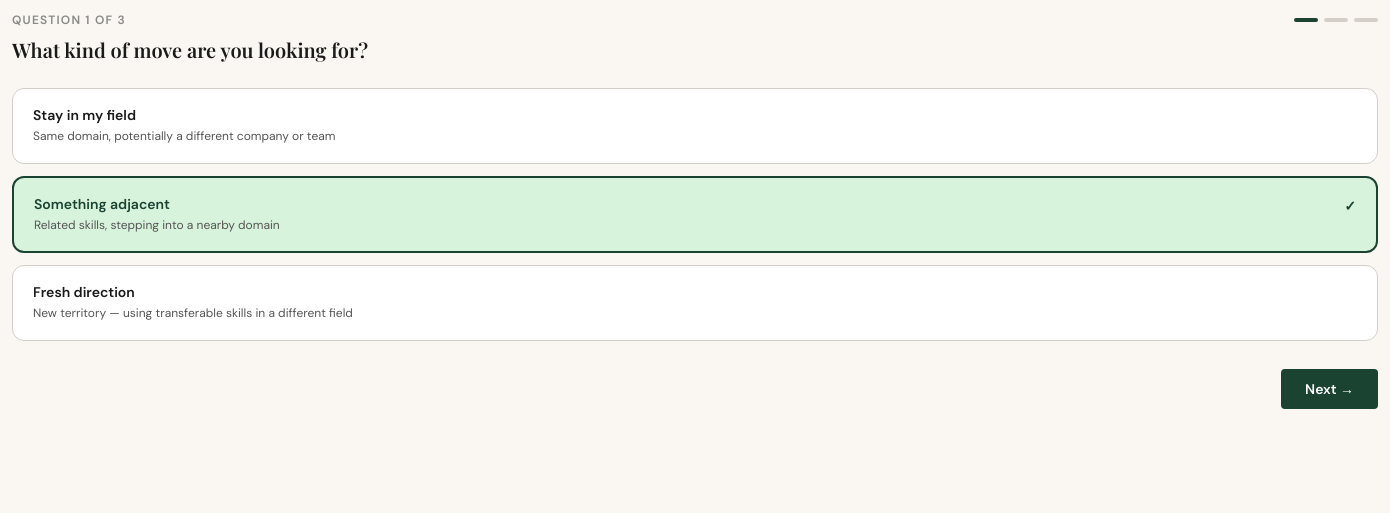
Test case: PathPreferencesForm - re-entry with saved preferences › opens the third step with the stored priority option pressed
Click the button "Next →": {"x": 1330, "y": 388} [1281,368,1378,408]
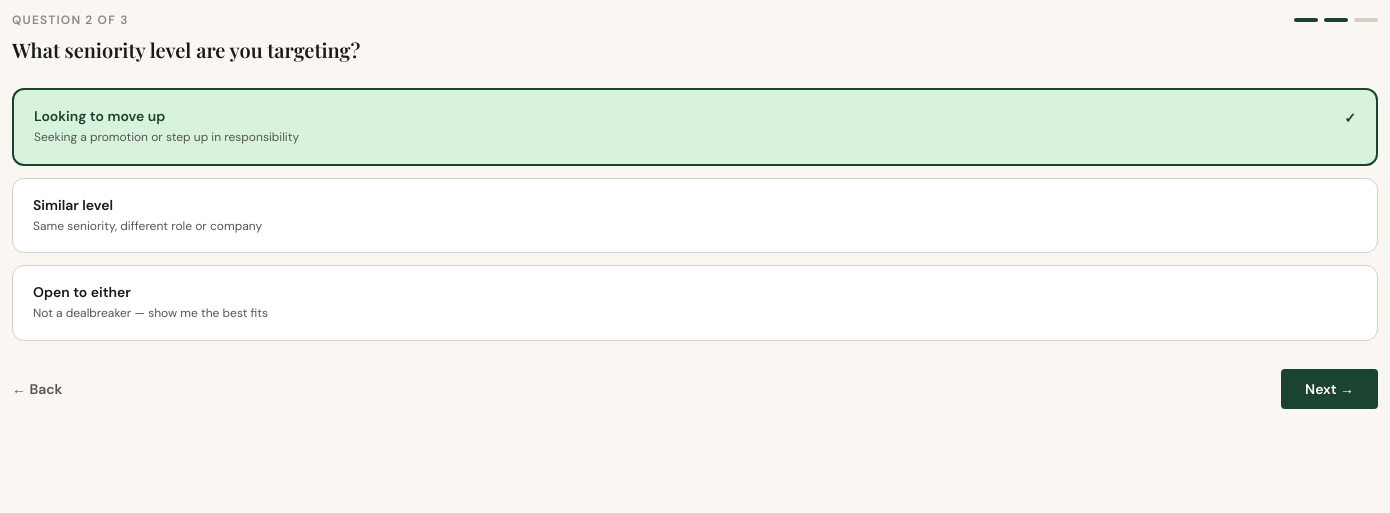
Click the button "Next →": {"x": 1330, "y": 388} [1281,368,1378,408]
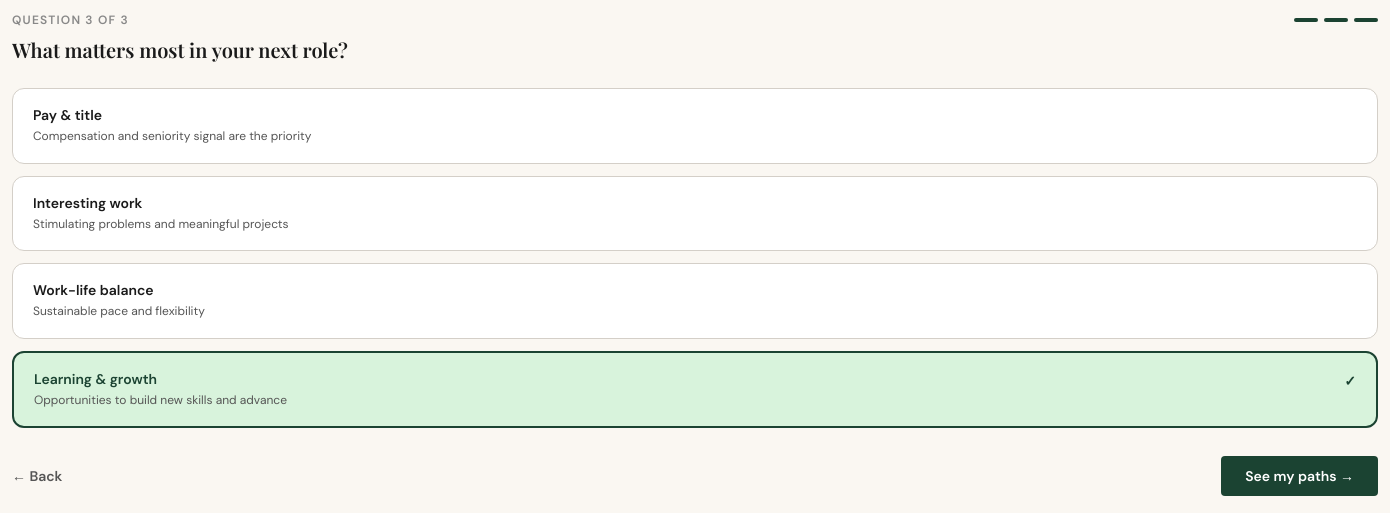
expect the button that starts with "Learning & growth" is shown: met, box [12,350,1378,428]
